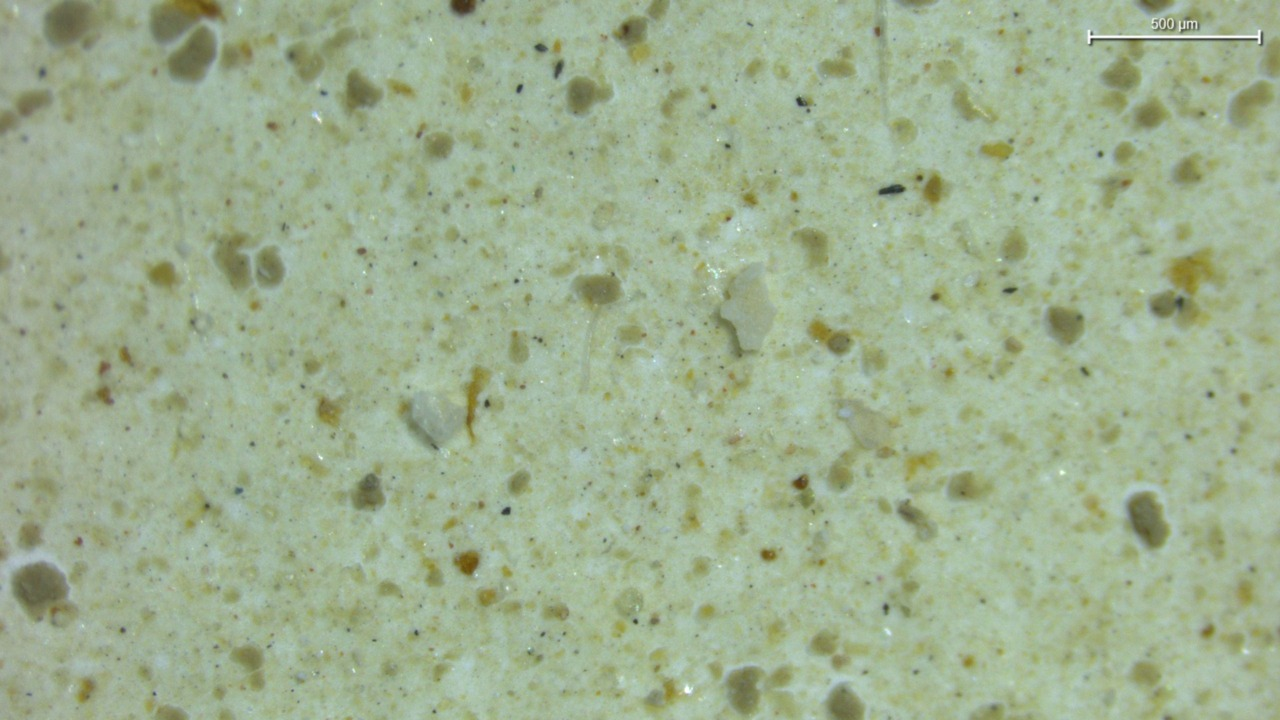microplastic_fragment: (719, 263, 775, 352), (410, 392, 464, 448)
